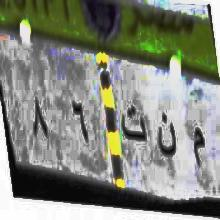6: (69, 93, 94, 159)
8: (29, 84, 50, 148)
meem: (188, 115, 208, 182)
noon: (152, 112, 181, 170)
taa: (119, 106, 149, 152)
